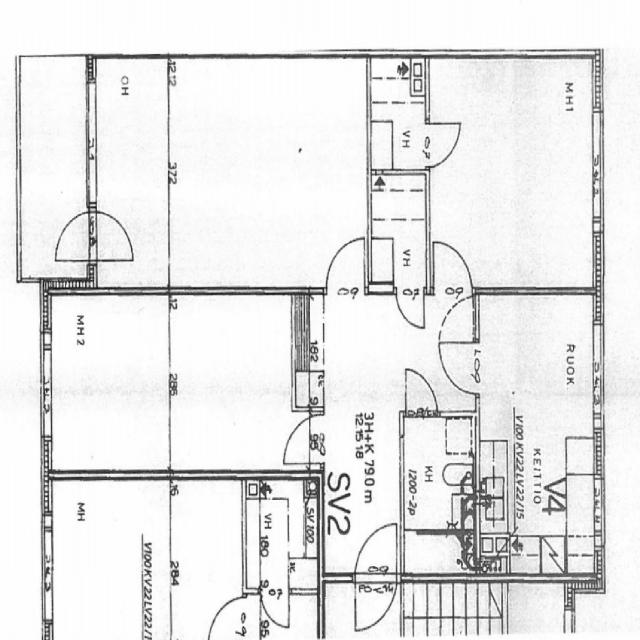door: (323, 232, 367, 298), (429, 236, 474, 299), (351, 574, 398, 634), (354, 519, 400, 576), (94, 209, 135, 265), (437, 342, 477, 397), (54, 208, 92, 265), (437, 291, 476, 345), (402, 366, 440, 417), (423, 119, 462, 168), (280, 416, 314, 467), (207, 596, 246, 640), (394, 286, 426, 332), (259, 590, 291, 629)
window: (81, 77, 101, 208), (37, 514, 57, 627), (590, 318, 606, 403)
zone: (170, 58, 370, 290), (430, 54, 601, 294), (475, 292, 604, 533), (43, 294, 172, 478), (169, 292, 299, 474), (92, 55, 172, 294), (169, 477, 244, 640), (244, 478, 319, 595), (402, 414, 475, 534), (368, 172, 428, 292), (371, 57, 427, 176), (402, 530, 474, 576), (94, 206, 134, 264)
